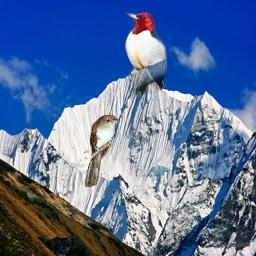Cuckoo: (85, 114, 120, 187)
Woodpecker: (123, 12, 168, 103)
